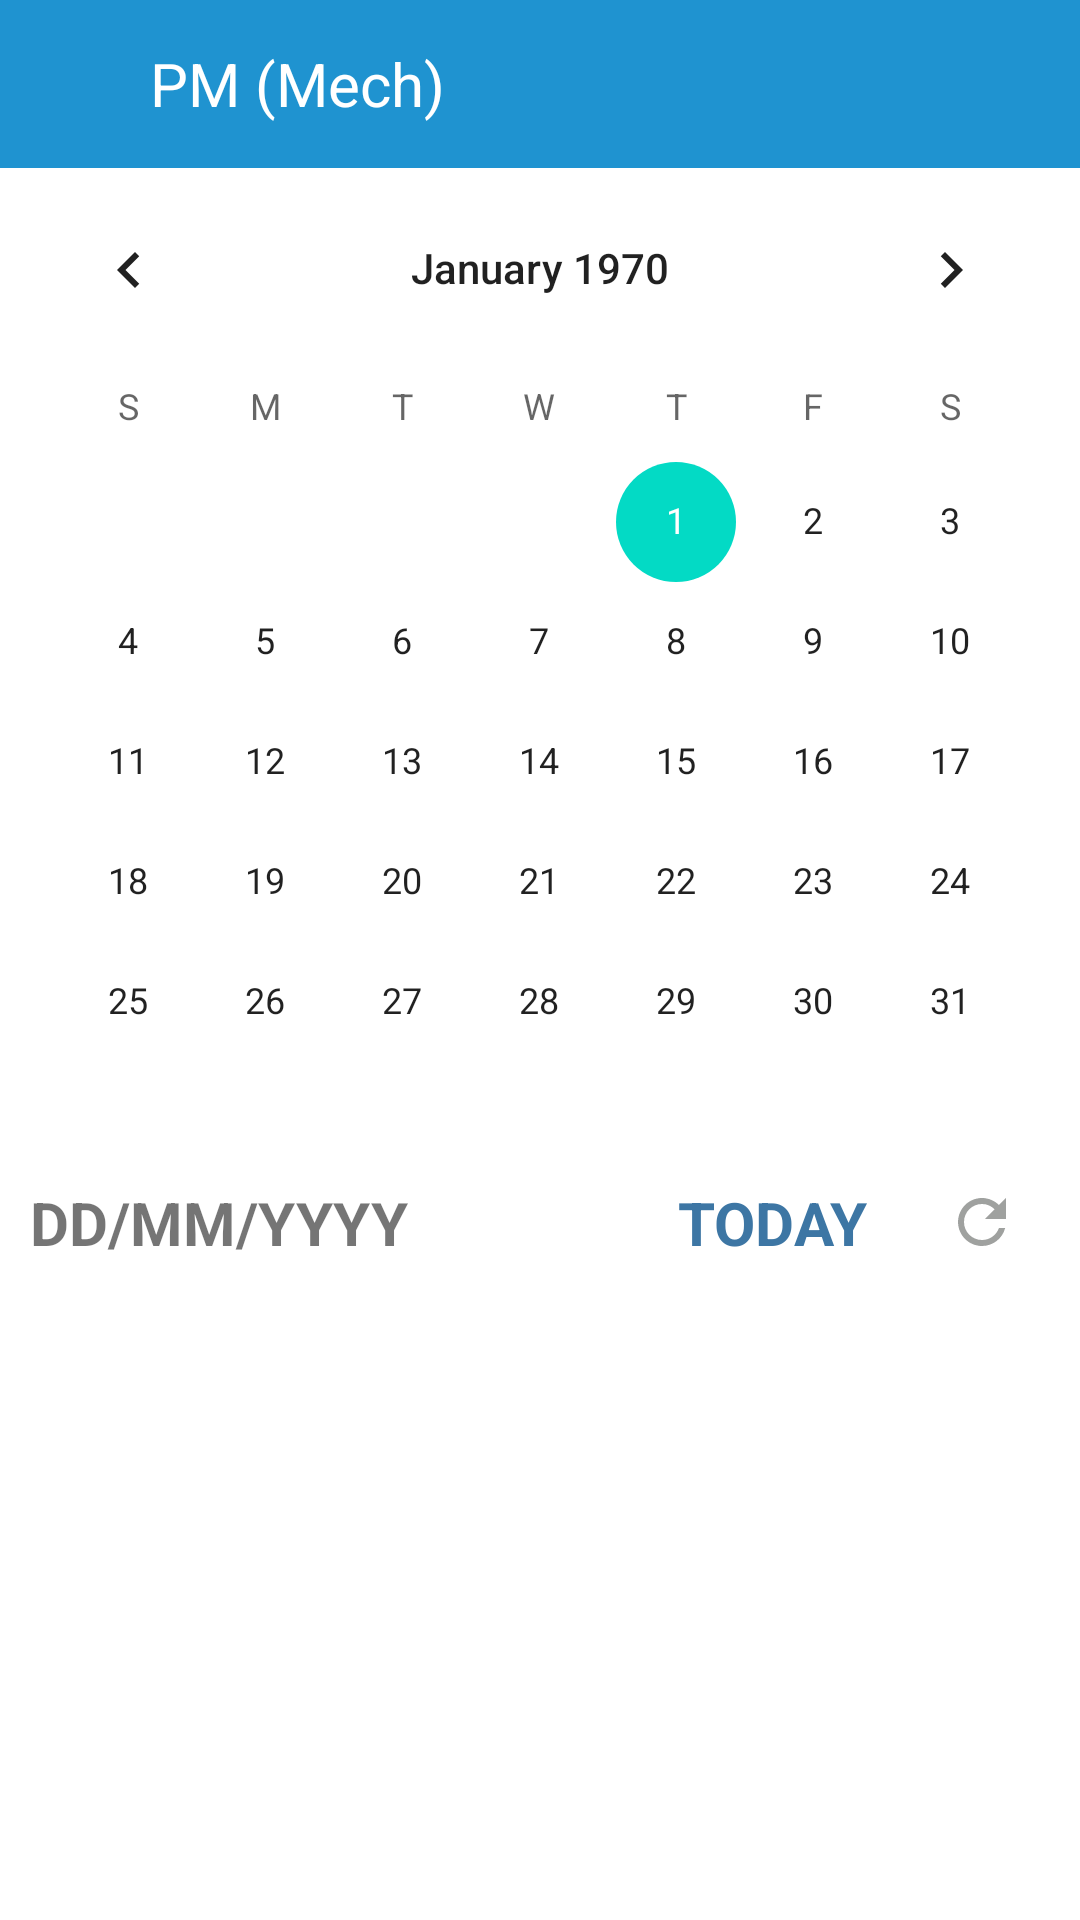

Where icons sit on this 1080×1920 app screen, as [x1,y1,x2,y2]:
refresh: [958,1198,1006,1246]
